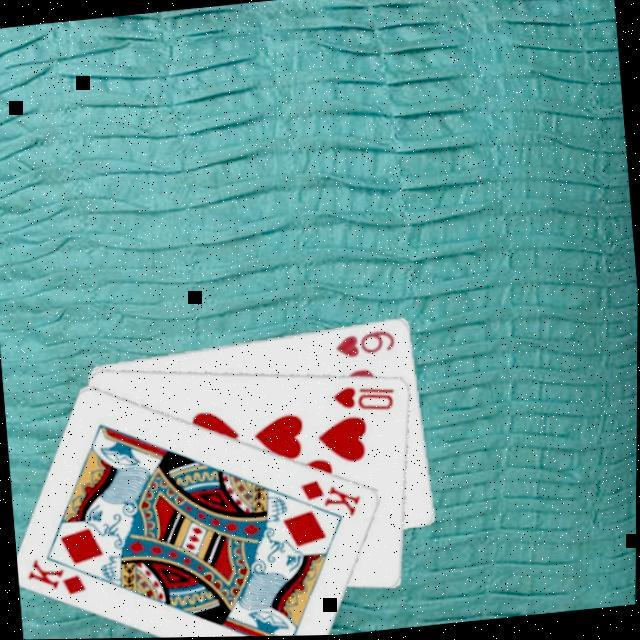10H: (330, 378, 400, 419)
6H: (332, 326, 400, 362)
KD: (298, 473, 367, 525), (23, 551, 92, 603)
